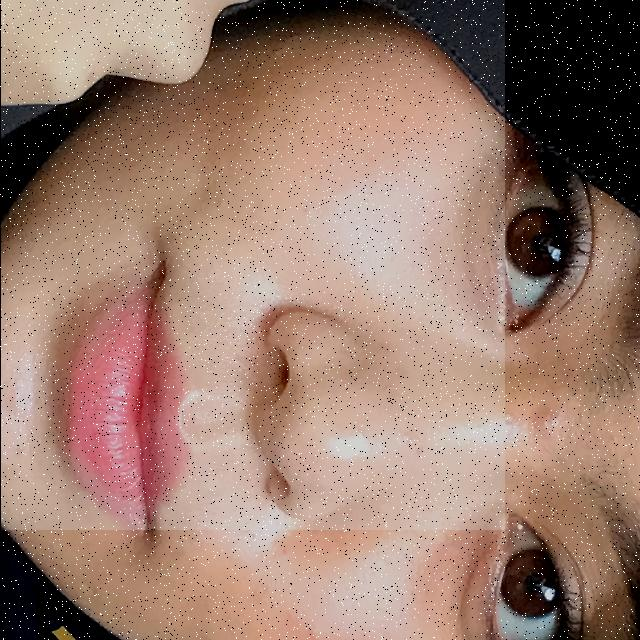telpon: (0, 0, 504, 530)
